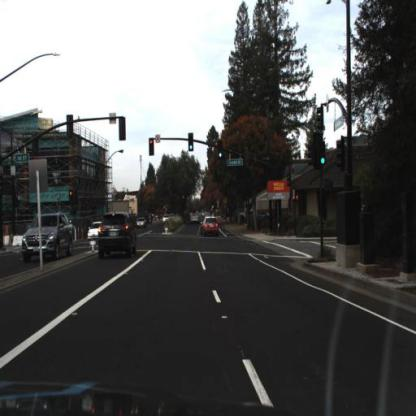car: (22, 209, 74, 267), (96, 206, 139, 262), (199, 214, 223, 239), (87, 217, 102, 249), (137, 218, 148, 232)
pedestrian: (68, 218, 75, 232)
trafficLight-Green: (316, 138, 328, 169), (218, 145, 224, 163), (189, 132, 194, 153)
trafficLight-RedLeft: (149, 137, 155, 160), (68, 188, 75, 207)
